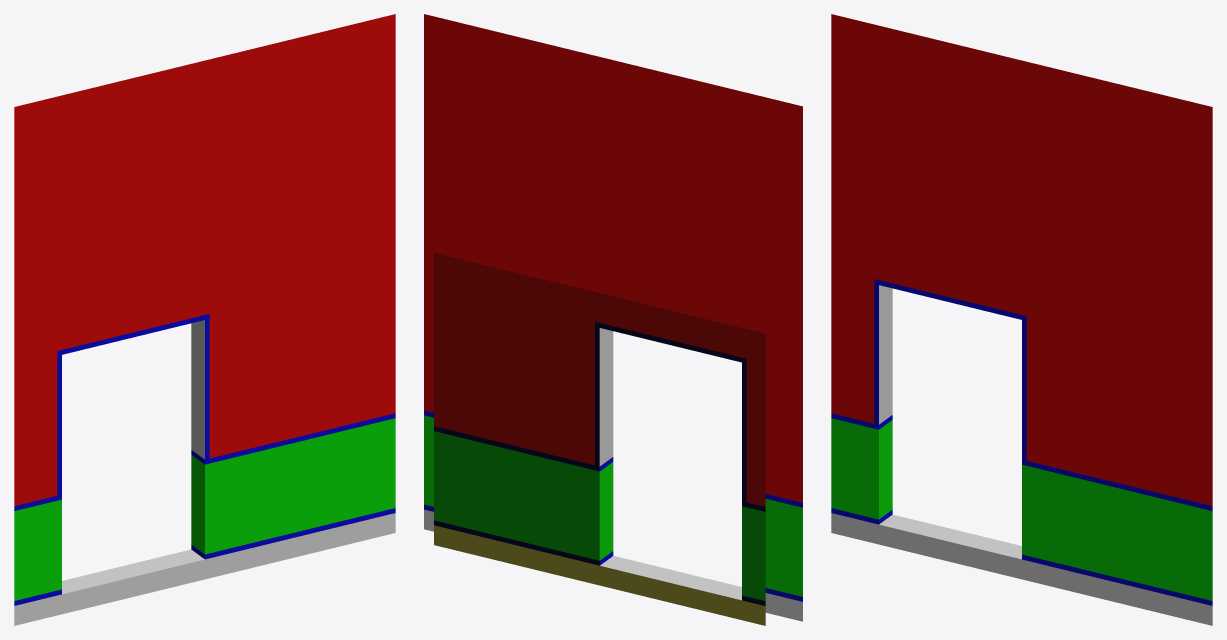
File: SM_Room4xXDoorB.fbx
3 views of the same model, side by side, from view 1: azimuth 30°, elevation 25°; view 2: azimuth 150°, elevation 25°; view 3: azimuth 330°, elevation 25° (orthographic).
Parts seen in each view (by area): view 1: SM_Room4xXDoorB; view 2: SM_Room4xXDoorB; view 3: SM_Room4xXDoorB.
Boxes of the visible parts, left/top/right/bottom form: SM_Room4xXDoorB: left=14, top=14, right=395, bottom=625; SM_Room4xXDoorB: left=424, top=14, right=802, bottom=625; SM_Room4xXDoorB: left=831, top=14, right=1212, bottom=625.
Bounding box in the file's own units: 400 × 520 × 25.
